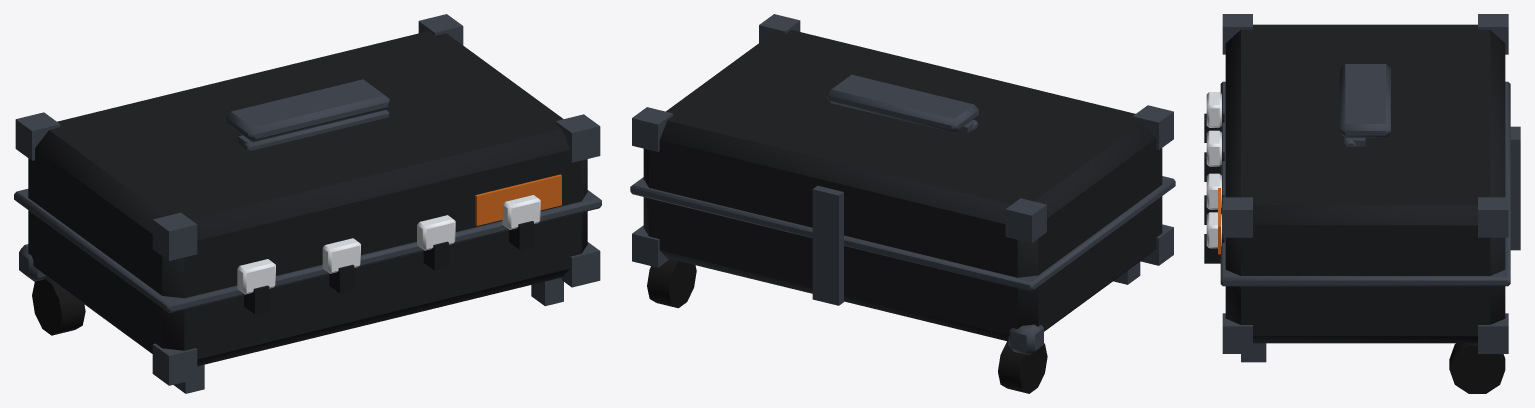
The model's file is crate_hard_case.glb.
The picture shows the model from 3 angles, left to right: view 1: azimuth 30°, elevation 25°; view 2: azimuth 150°, elevation 25°; view 3: azimuth 270°, elevation 25°; orthographic projection. The views are drawn at different scales.
Visible parts, largest first — view 1: crate_hard_case; view 2: crate_hard_case; view 3: crate_hard_case.
Part boxes in pixels (box(x1,y1,x2,y2)): crate_hard_case: box(14, 14, 601, 393); crate_hard_case: box(630, 14, 1175, 393); crate_hard_case: box(1204, 14, 1520, 393).
Bounding box in the file's own units: 0.92 × 0.4523 × 0.622.
